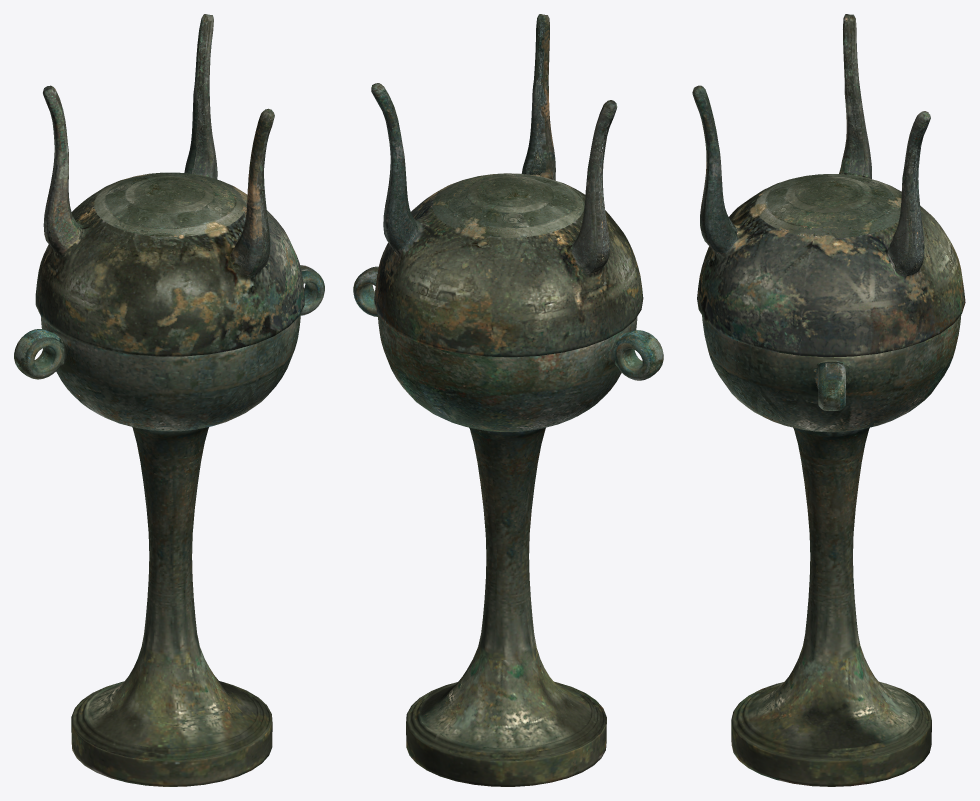
File: fbxfile.fbx
3 views of the same model, side by side, from view 1: azimuth 30°, elevation 25°; view 2: azimuth 150°, elevation 25°; view 3: azimuth 270°, elevation 25° (orthographic).
Parts seen in each view (by area): view 1: 3DXY_geometry_001; view 2: 3DXY_geometry_001; view 3: 3DXY_geometry_001.
Part boxes in pixels (x1,y1,x2,y2): 3DXY_geometry_001: (14,14,324,786); 3DXY_geometry_001: (353,14,663,786); 3DXY_geometry_001: (692,14,965,786).
Size of the model in its own units: 17.88 by 38.16 by 13.99.
Materials: 1 (1 with a texture image).
